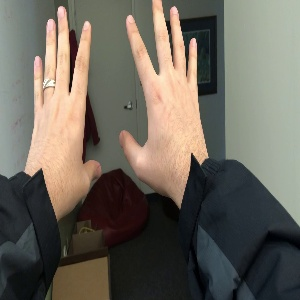hand: (118, 1, 209, 177), (29, 5, 102, 192)
